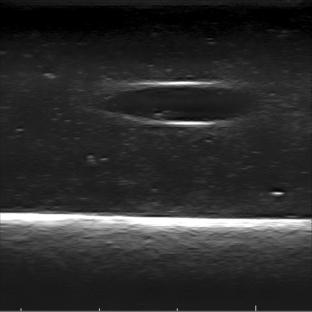vessel: (102, 80, 254, 126)
